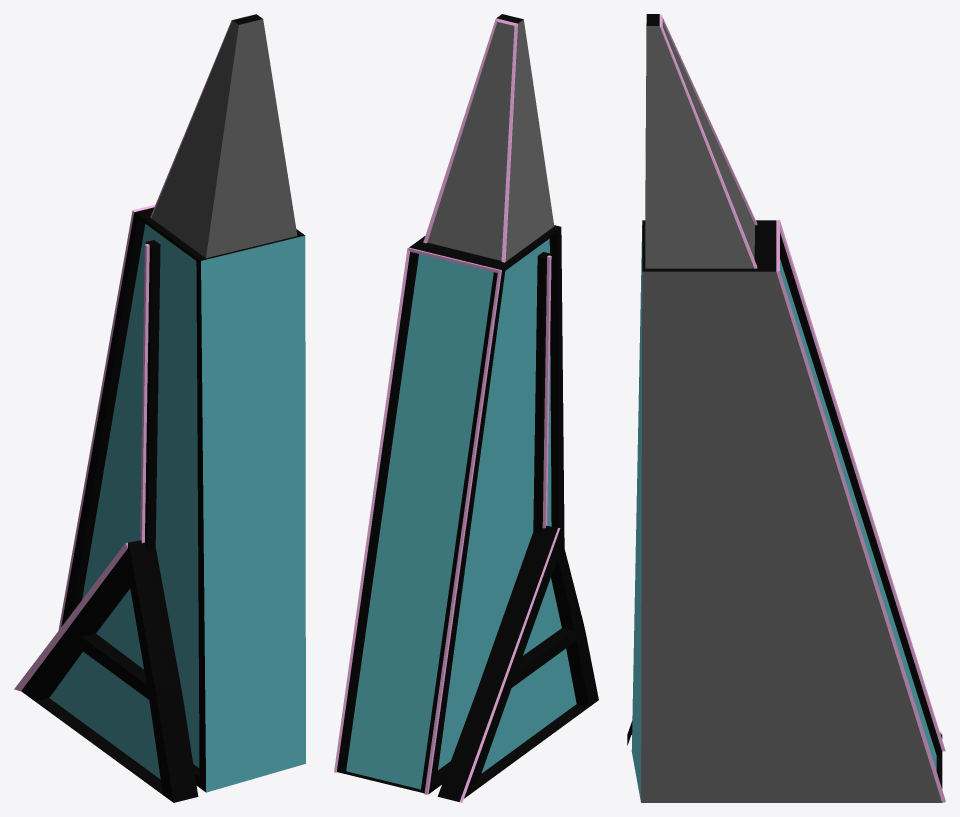
The model's file is SM_Environment_Buildings_Mid_01.fbx.
3 renders of one model, left to right at view 1: azimuth 30°, elevation 25°; view 2: azimuth 150°, elevation 25°; view 3: azimuth 270°, elevation 25°, orthographic. The views are drawn at different scales.
Parts seen in each view (by area): view 1: SM_Environment_Buildings_Mid_01, Lights; view 2: SM_Environment_Buildings_Mid_01, Lights; view 3: SM_Environment_Buildings_Mid_01, Lights.
Part boxes in pixels (x1,y1,x2,y2): SM_Environment_Buildings_Mid_01: (21, 14, 305, 802); Lights: (14, 14, 255, 691); SM_Environment_Buildings_Mid_01: (337, 14, 598, 801); Lights: (334, 18, 560, 802); SM_Environment_Buildings_Mid_01: (627, 14, 942, 802); Lights: (659, 14, 945, 802).
Size of the model in its own units: 8.18 by 41.35 by 15.75.
